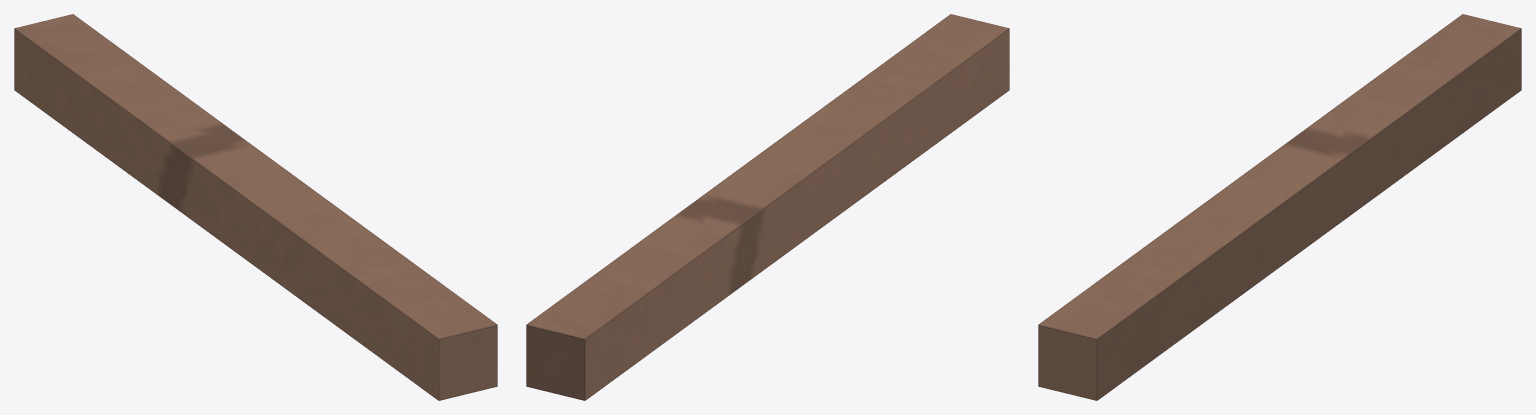
3 renders of one model, left to right at view 1: azimuth 30°, elevation 25°; view 2: azimuth 150°, elevation 25°; view 3: azimuth 330°, elevation 25°, orthographic.
Visible parts, largest first — view 1: part-a; view 2: part-a; view 3: part-a.
Part boxes in pixels (bbox=[...]): part-a: bbox=[14, 14, 497, 400]; part-a: bbox=[526, 14, 1009, 400]; part-a: bbox=[1038, 14, 1521, 400].
Bounding box in the file's own units: 0.1208 × 0.1208 × 1.5.
